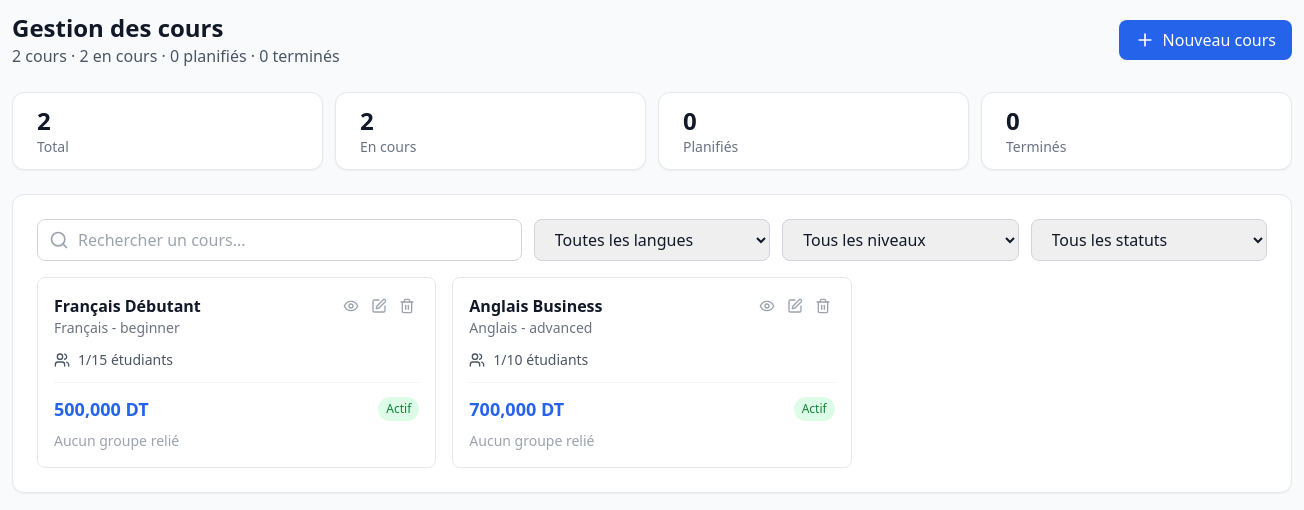
Courses page — règle des langues actives › shows stats and filters the list by status
Expected: the text "2 cours · 2 en cours · 0 planifiés · 0 terminés" is shown, [12,44,340,68]
Select "Terminé" in the dropdown named "Filtrer par statut" at x=1149, y=240, box [1031,219,1267,261]
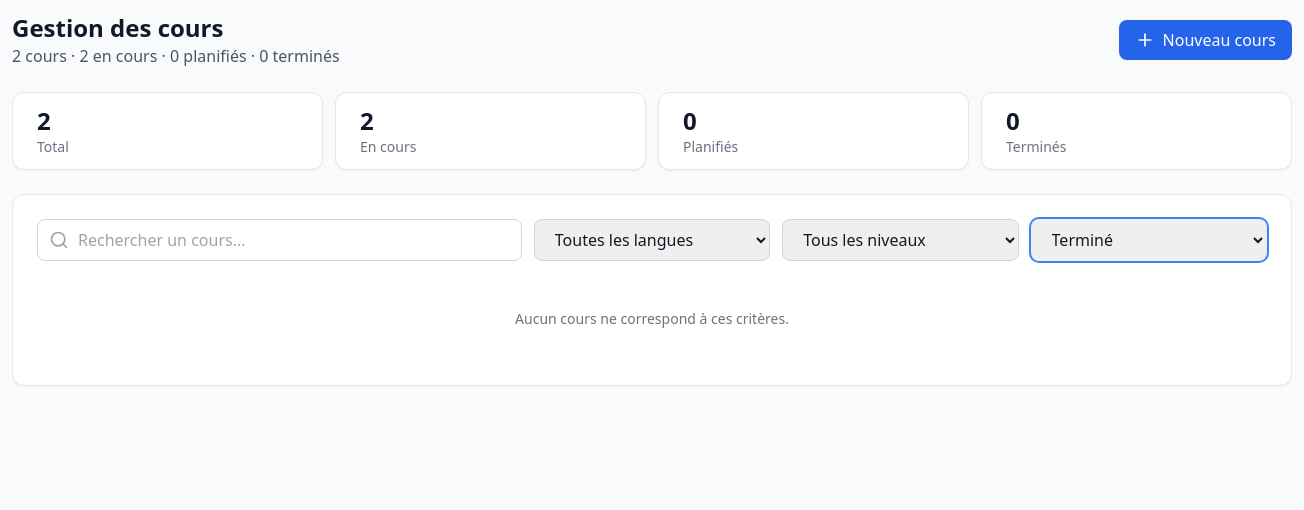
Expected: the heading "Anglais Business" is gone
Expected: the heading "Français Débutant" is gone
Expected: the text "Aucun cours ne correspond à ces critères." is shown, [515,309,789,328]
Select "En cours" in the dropdown named "Filtrer par statut" at x=1149, y=240, box [1031,219,1267,261]
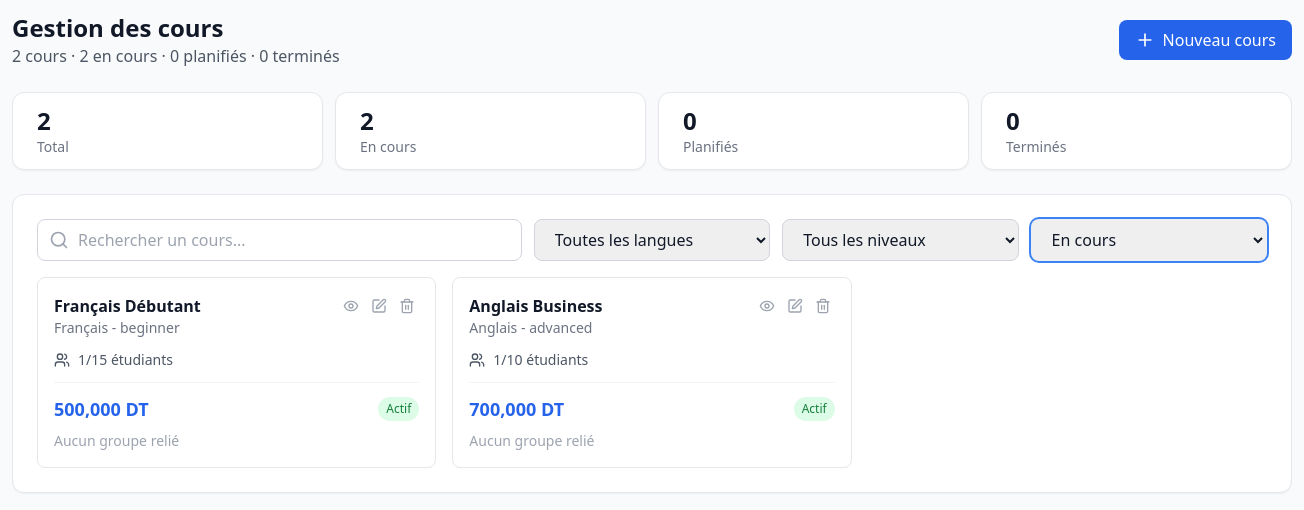
Expected: the heading "Anglais Business" is shown, [469,294,602,318]
